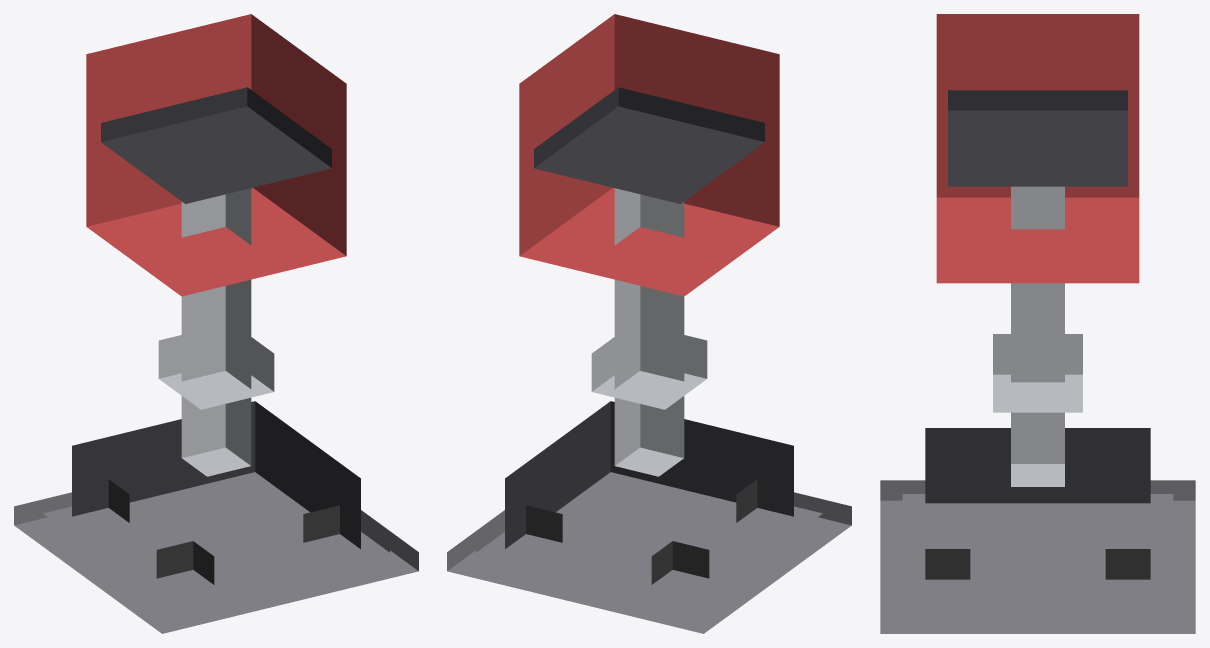
Rendered from joystick.gltf.
3 renders of one model, left to right at view 1: azimuth 30°, elevation 25°; view 2: azimuth 150°, elevation 25°; view 3: azimuth 270°, elevation 25°, orthographic. The views are drawn at different scales.
Visible parts, largest first — view 1: joystick; view 2: joystick; view 3: joystick.
Part boxes in pixels (x1,y1,x2,y2): joystick: (14,14,418,633); joystick: (447,14,851,633); joystick: (880,14,1195,633).
Bounding box in the file's own units: 0.07 × 0.125 × 0.07.
